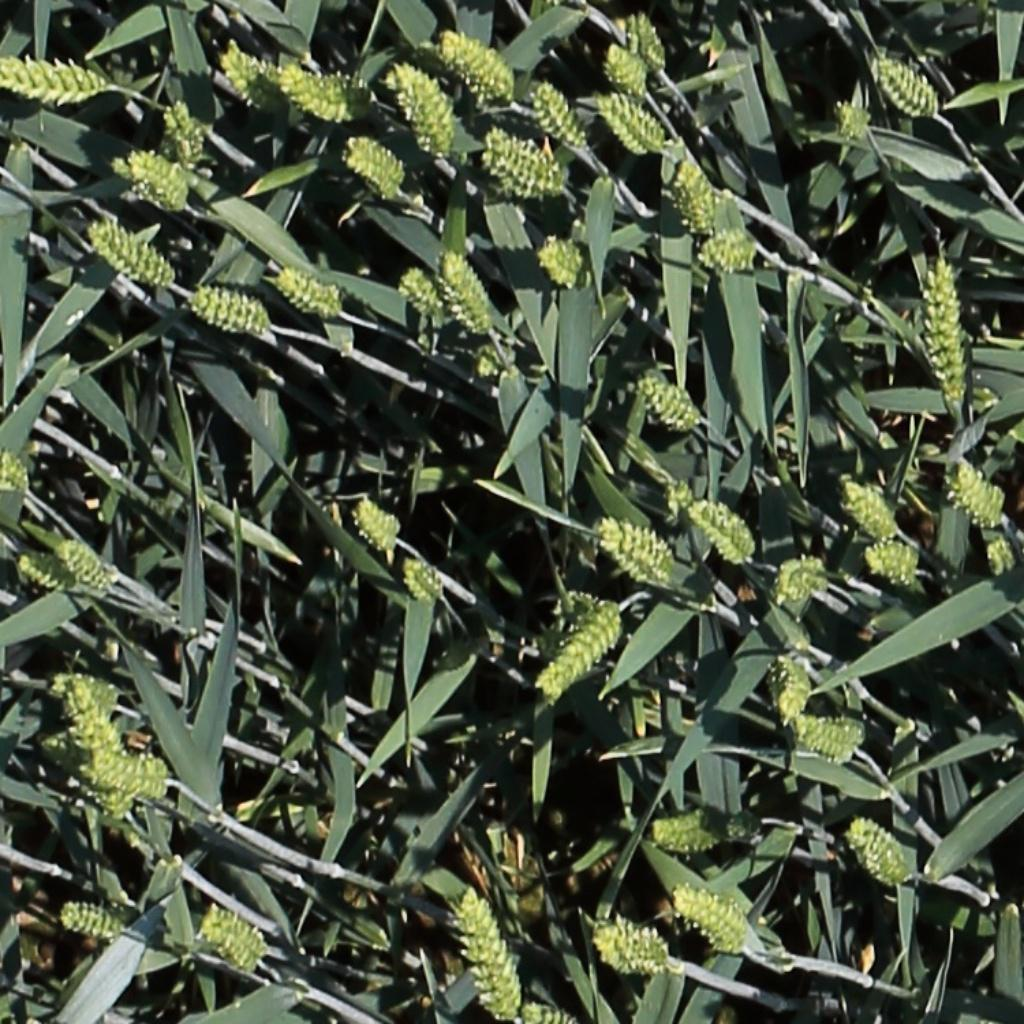0-0: (529, 599, 631, 706), (450, 881, 530, 1017), (923, 215, 975, 414), (670, 880, 773, 960), (379, 52, 453, 160), (275, 57, 379, 132), (585, 516, 677, 597), (81, 220, 180, 294), (837, 813, 927, 892), (439, 24, 519, 112), (434, 249, 509, 342), (521, 72, 601, 159), (471, 123, 570, 192), (584, 912, 677, 984), (114, 143, 195, 221), (692, 498, 776, 572), (0, 54, 106, 112), (630, 373, 717, 442), (181, 285, 276, 348), (869, 43, 940, 126), (599, 93, 681, 164), (942, 456, 1013, 535), (265, 258, 348, 324), (791, 710, 878, 771), (761, 651, 825, 729), (343, 136, 415, 204), (57, 688, 131, 754), (81, 754, 180, 803), (200, 906, 269, 976), (640, 809, 731, 859), (837, 476, 914, 535), (55, 895, 131, 949), (695, 227, 763, 284), (859, 537, 927, 593), (532, 234, 597, 291), (775, 554, 837, 612), (75, 779, 141, 833), (59, 535, 117, 596), (677, 160, 723, 234), (218, 36, 271, 95), (10, 553, 73, 602), (834, 83, 880, 149), (392, 259, 444, 317), (715, 799, 767, 857), (467, 339, 532, 385), (47, 667, 124, 705), (513, 988, 590, 1024), (652, 470, 708, 518), (612, 10, 666, 58), (353, 499, 402, 551), (603, 44, 652, 95), (974, 535, 1022, 583), (165, 98, 204, 150), (401, 562, 444, 604), (1, 444, 31, 502)
